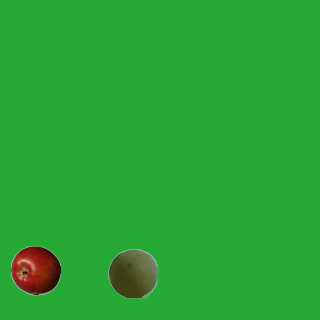Apple Braeburn: (10, 245, 60, 295)
Grape White 4: (107, 248, 157, 298)
